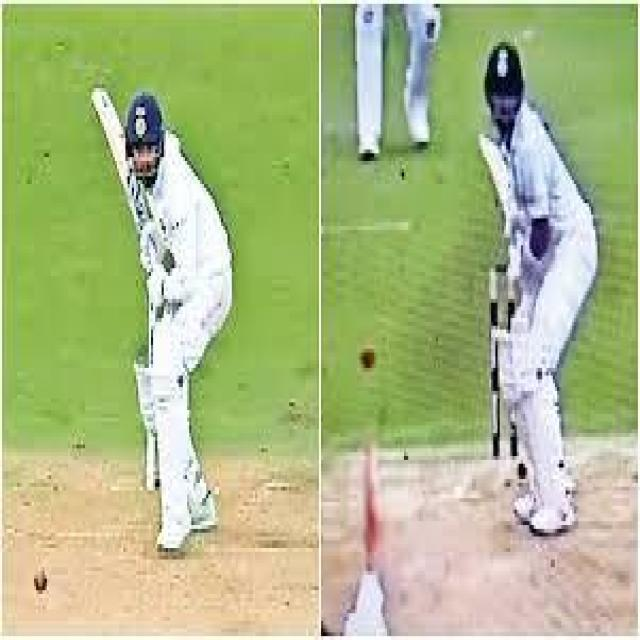bat: (91, 87, 147, 234), (480, 130, 520, 221)
toe: (89, 88, 114, 116)
